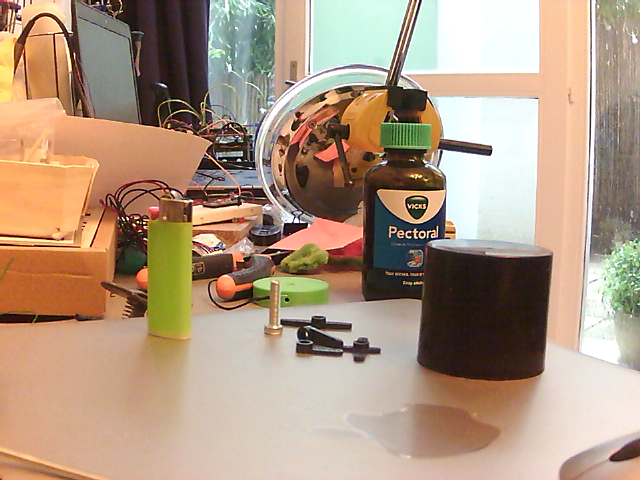bolt: (261, 279, 284, 335)
lighter: (146, 198, 197, 341)
